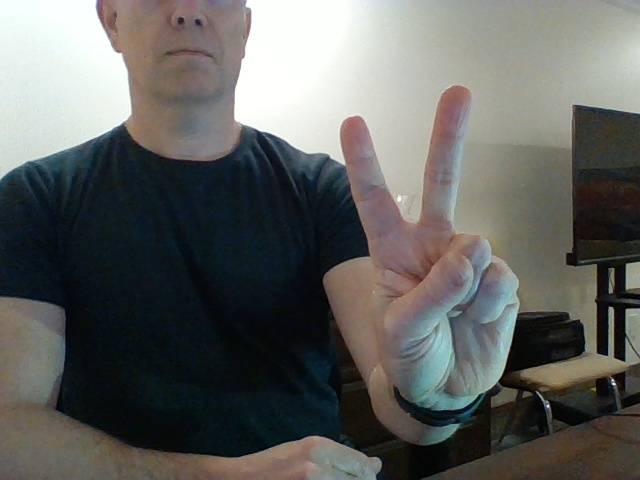Victory: (340, 85, 520, 399)
